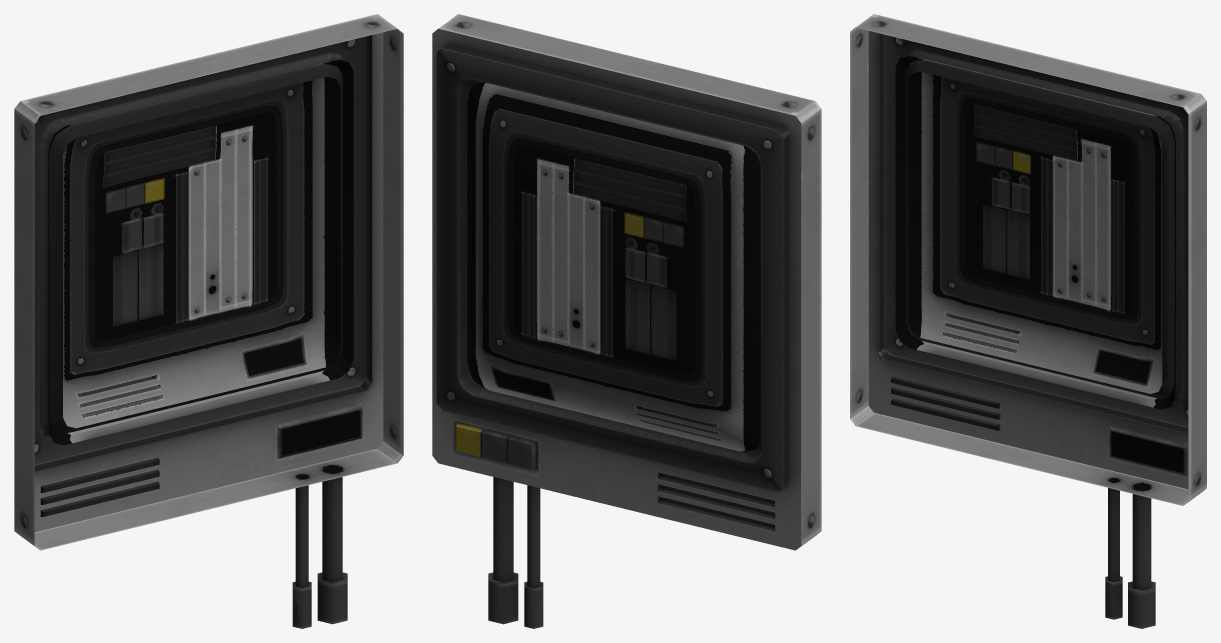
Rendered from ProjectionScreen.FBX.
3 renders of one model, left to right at view 1: azimuth 30°, elevation 25°; view 2: azimuth 150°, elevation 25°; view 3: azimuth 330°, elevation 25°, orthographic. The views are drawn at different scales.
Parts seen in each view (by area): view 1: Projection_Screens; view 2: Projection_Screens; view 3: Projection_Screens.
Part boxes in pixels (x1,y1,x2,y2): Projection_Screens: (14,14,403,628); Projection_Screens: (432,14,821,628); Projection_Screens: (850,14,1206,628).
Size of the model in its own units: 127 by 192 by 20.01.
1 material, 1 textured.
